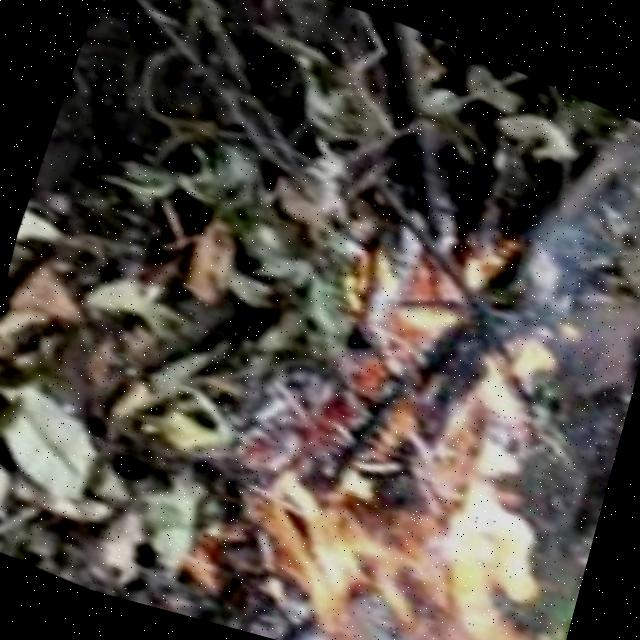fire: (222, 182, 640, 640)
